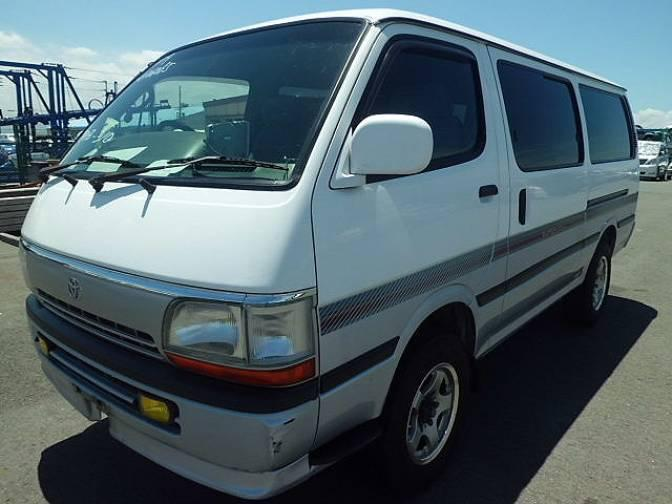Van: (21, 11, 639, 493)
